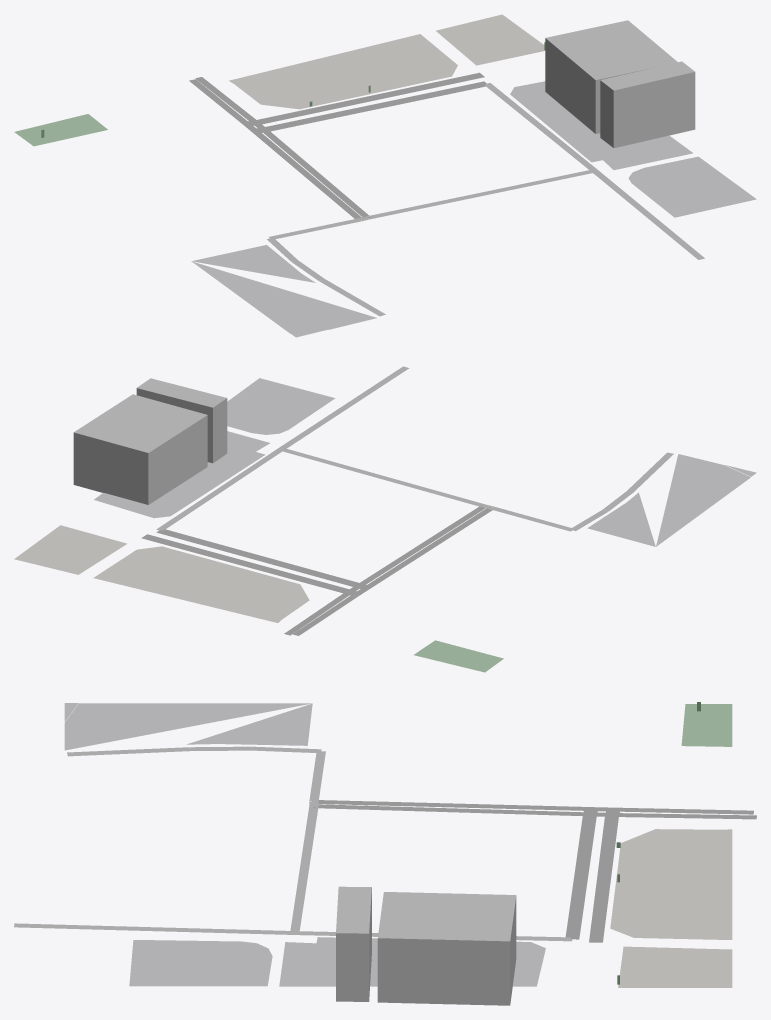
The picture shows the model from 3 angles, top to bottom: view 1: azimuth 30°, elevation 25°; view 2: azimuth 150°, elevation 25°; view 3: azimuth 270°, elevation 25°; orthographic projection. The views are drawn at different scales.
Size of the model in its own units: 533 by 57.59 by 556.
